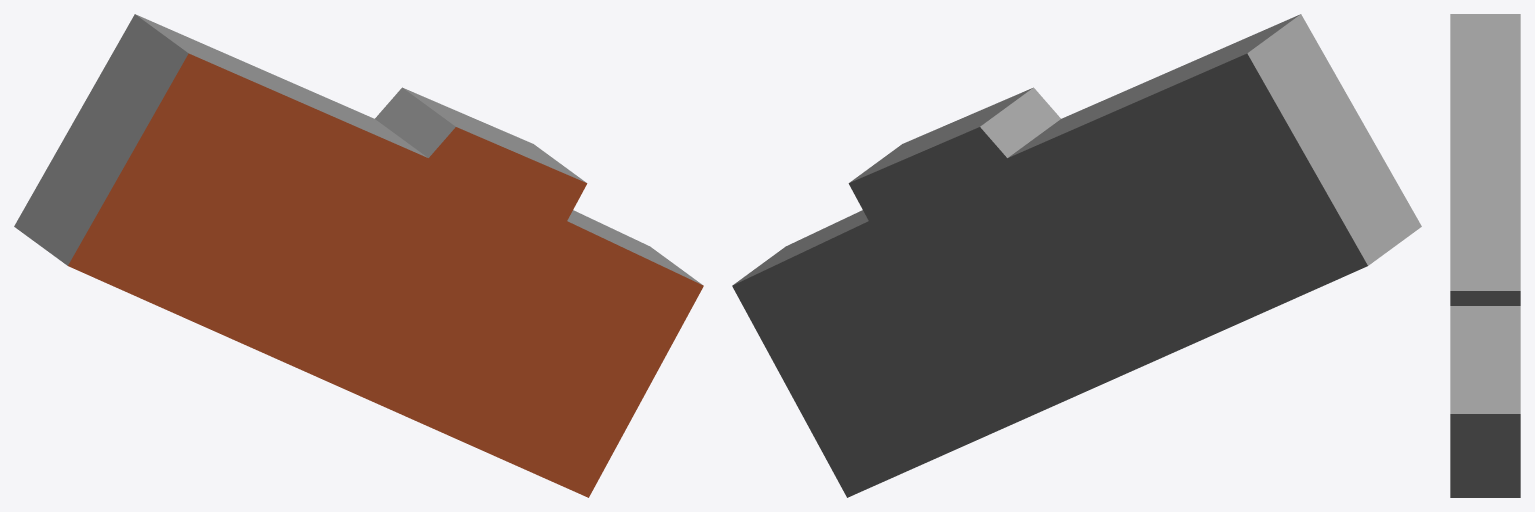
File: construction_6621_assumed_A_Casa_h6m.obj
The picture shows the model from 3 angles, left to right: view 1: azimuth 30°, elevation 25°; view 2: azimuth 150°, elevation 25°; view 3: azimuth 270°, elevation 25°; orthographic projection. The views are drawn at different scales.
Parts seen in each view (by area): view 1: construction_6621_assumed_A_Casa; view 2: construction_6621_assumed_A_Casa; view 3: construction_6621_assumed_A_Casa.
Part boxes in pixels (x1,y1,x2,y2): construction_6621_assumed_A_Casa: (14, 14, 703, 497); construction_6621_assumed_A_Casa: (732, 14, 1421, 497); construction_6621_assumed_A_Casa: (1450, 14, 1520, 497).
Size of the model in its own units: 40.94 by 33.35 by 6.
